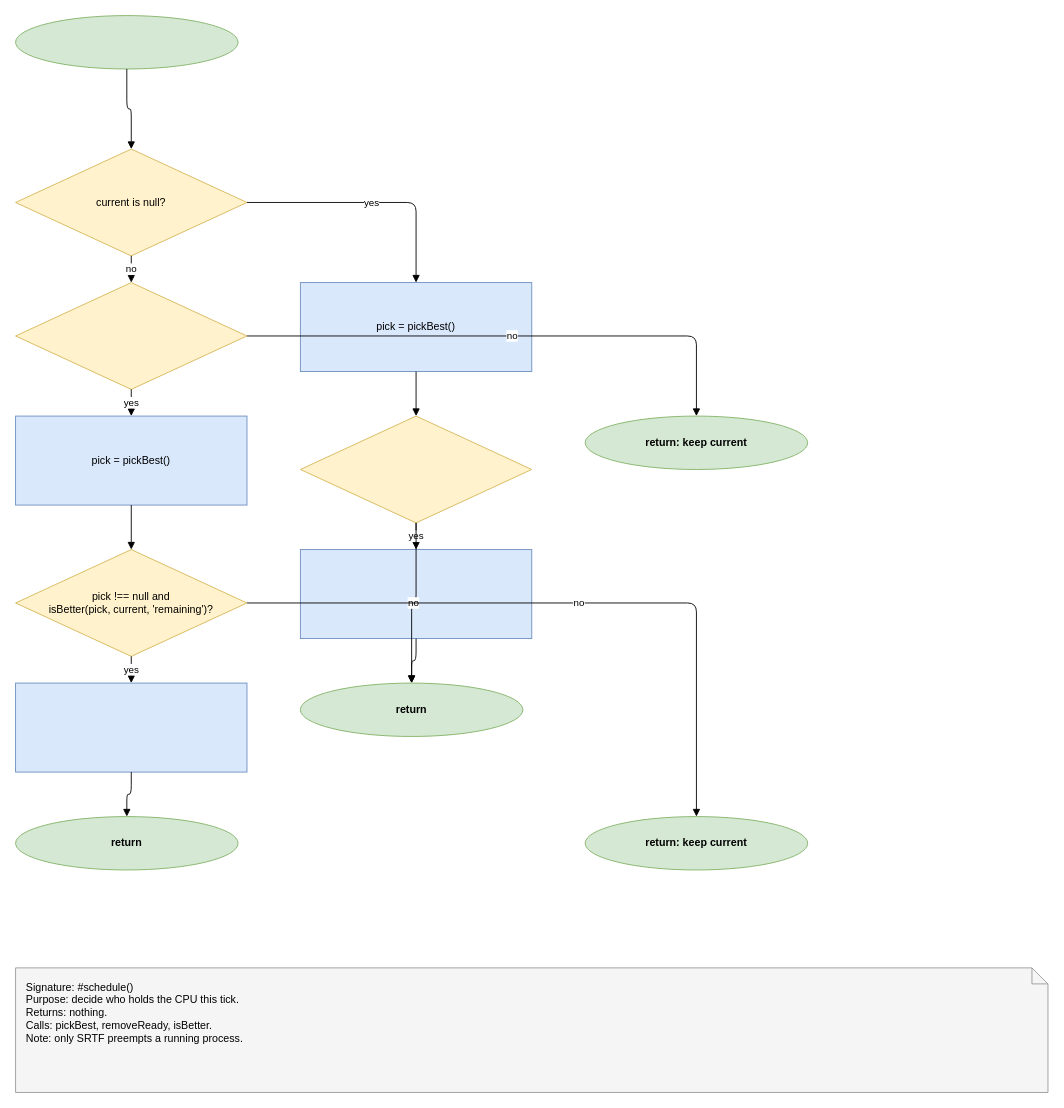
Image size: 1064x1108. Some labels were removed from this diagram. The box of each missing label's shape, as (x1, y1, x2, y2) in pixels:
pick !== null?: (299, 415, 532, 523)
preemptive (SRTF only)?: (15, 282, 247, 389)
removeReady(pick) push current to ready quantumUsed = 0 current = pick: (15, 682, 247, 772)
removeReady(pick) quantumUsed = 0 current = pick: (299, 549, 532, 639)
schedule(): (15, 15, 238, 69)
